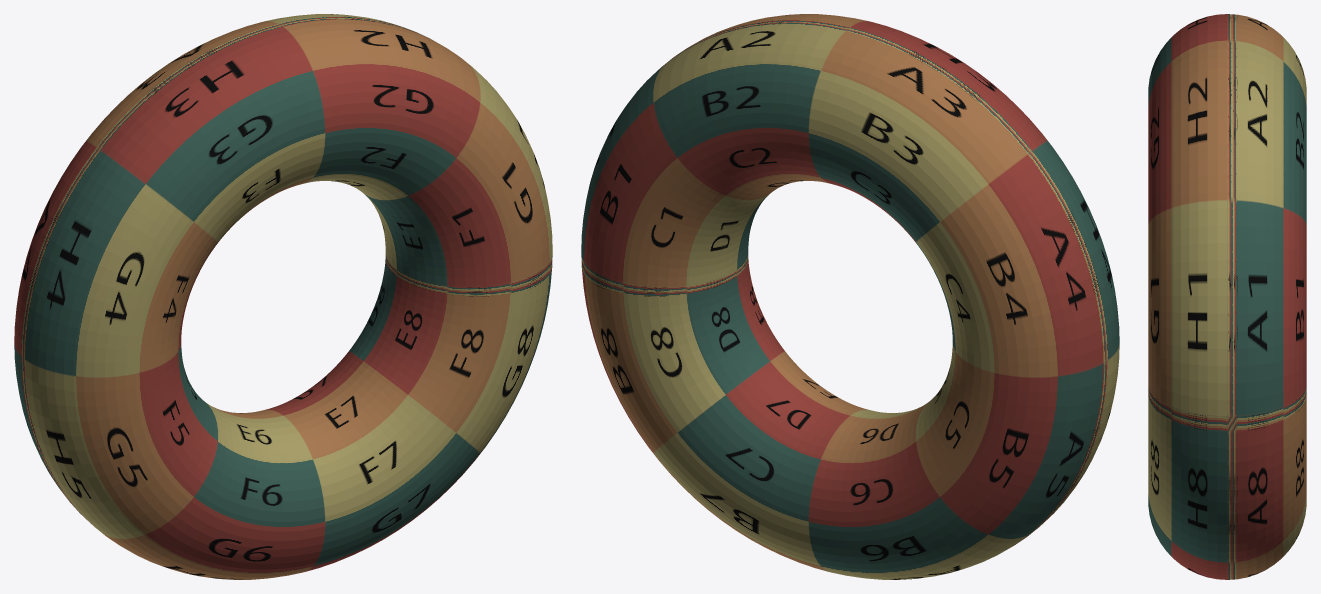
File: texture_torus_R5_r7.glb
The picture shows the model from 3 angles, left to right: view 1: azimuth 30°, elevation 25°; view 2: azimuth 150°, elevation 25°; view 3: azimuth 270°, elevation 25°; orthographic projection. The views are drawn at different scales.
Parts seen in each view (by area): view 1: world; view 2: world; view 3: world.
Boxes of the visible parts, <box> form: world: <box>14,14,552,579</box>; world: <box>581,14,1119,579</box>; world: <box>1148,14,1306,579</box>.
Bounding box in the file's own units: 29.33 × 29.33 × 8.21.
1 material, 1 textured.
